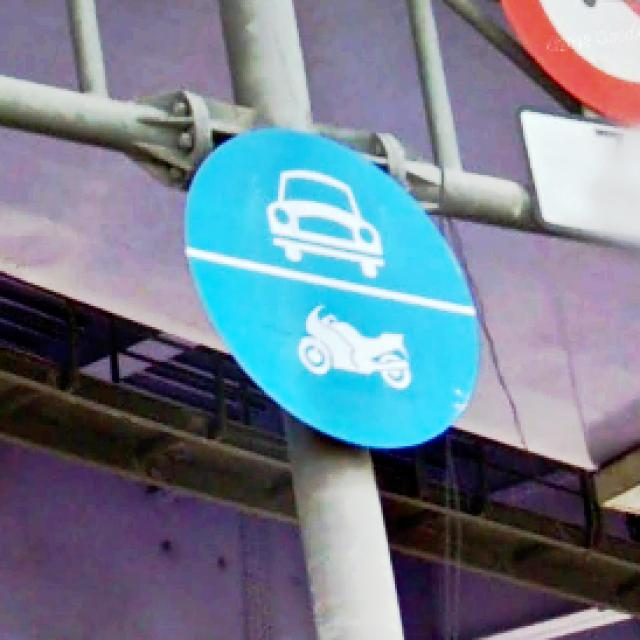carmotorcycle: (185, 128, 481, 453)
